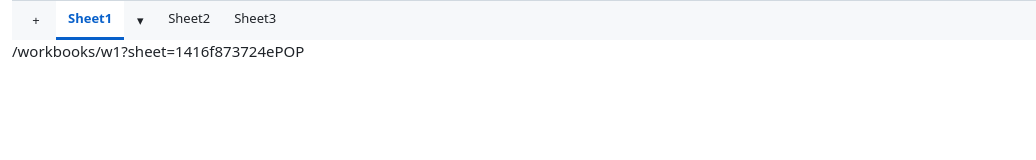
SheetTabs › adds a sheet after the current tab and opens it
Click the button with test id "add-sheet".
click(36, 20)  # box [20,4,52,36]
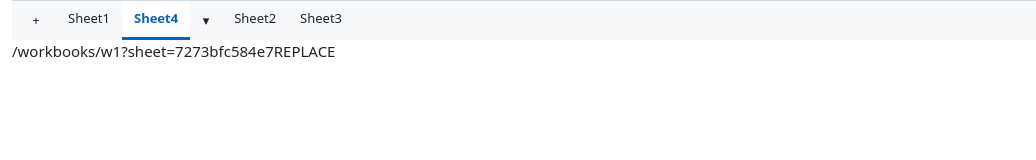
Check: the text "Sheet4" is shown, box [134,9,178,29]
